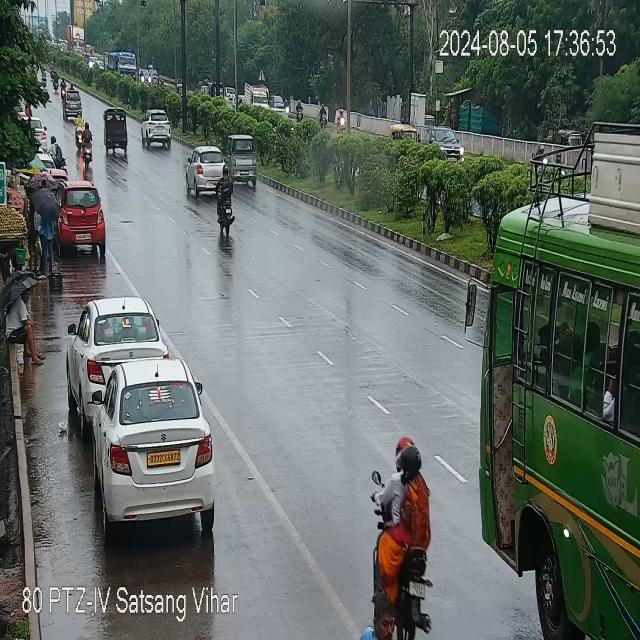2-wheelers: (367, 435, 429, 640), (214, 172, 239, 238), (49, 135, 68, 170), (83, 122, 95, 162), (76, 113, 85, 149)
auto: (104, 110, 128, 154)
bus: (477, 135, 640, 637)
car: (88, 364, 216, 532), (70, 295, 163, 410), (57, 185, 106, 253), (185, 148, 230, 195), (225, 135, 261, 182), (419, 125, 465, 160), (142, 109, 170, 147), (62, 86, 80, 118)
pedestrian: (20, 161, 60, 274), (6, 288, 44, 358)
